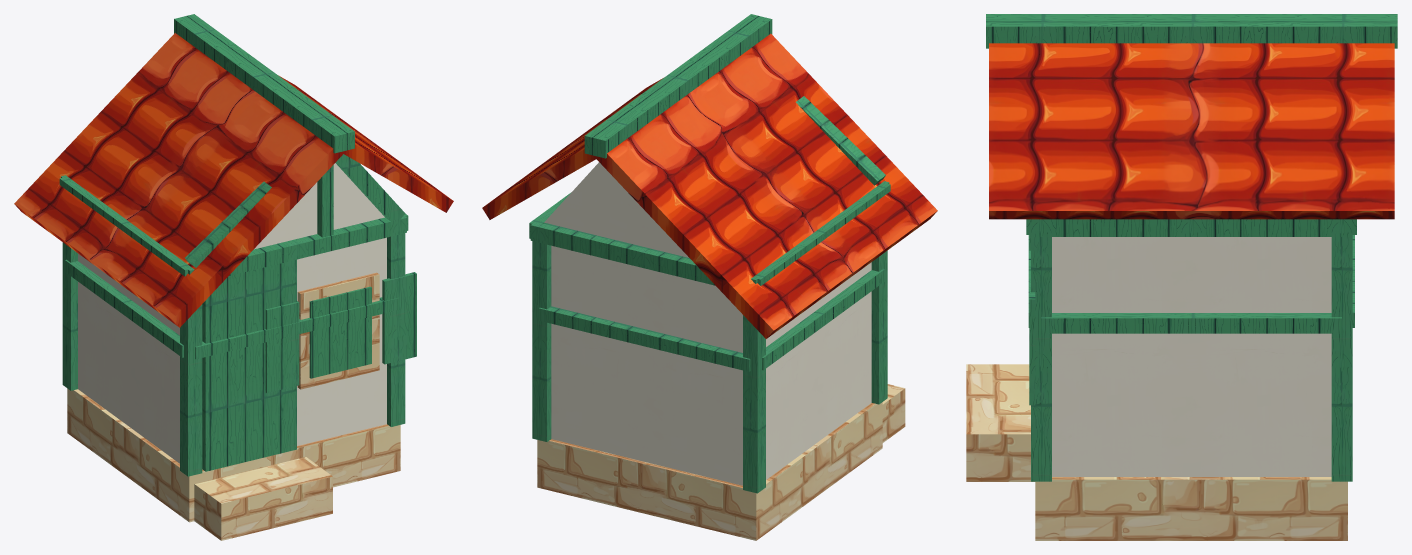
Rendered from maison_2x2.glb.
3 views of the same model, side by side, from view 1: azimuth 30°, elevation 25°; view 2: azimuth 150°, elevation 25°; view 3: azimuth 270°, elevation 25° (orthographic). The views are drawn at different scales.
Visible parts, largest first — view 1: Cube.017, Cube.001, Cube.020, Cube, Cube.021, Cube.019, Cube.023, pignon_avant, Cube.002, Cube.006, Cube.022, Cube.007 (+10 smaller); view 2: Cube.017, Cube.001, Cube, Cube.019, pignon_arriere, Cube.005, Cube.009, Cube.008, Cube.004, Cube.018, Cube.011, Cube.002 (+3 smaller); view 3: Cube.018, Cube.001, Cube, Cube.019, Cube.021, Cube.013, Cube.012, Cube.005, Cube.003, Cube.025.
Boxes of the visible parts, left/top/right/bottom form: Cube.017: left=14, top=33, right=346, bottom=327; Cube.001: left=78, top=237, right=386, bottom=463; Cube.020: left=202, top=259, right=296, bottom=471; Cube: left=67, top=388, right=400, bottom=522; Cube.021: left=194, top=457, right=332, bottom=540; Cube.019: left=174, top=14, right=354, bottom=153; Cube.023: left=309, top=286, right=371, bottom=378; pignon_avant: left=254, top=163, right=384, bottom=249; Cube.002: left=180, top=262, right=202, bottom=476; Cube.006: left=188, top=216, right=406, bottom=275; Cube.022: left=297, top=272, right=379, bottom=389; Cube.007: left=195, top=297, right=399, bottom=359; Cube.017: left=593, top=33, right=937, bottom=338; Cube.001: left=551, top=245, right=871, bottom=485; Cube: left=537, top=402, right=882, bottom=540; Cube.019: left=584, top=14, right=772, bottom=158; pignon_arriere: left=544, top=162, right=688, bottom=257; Cube.005: left=532, top=217, right=551, bottom=441; Cube.009: left=538, top=306, right=750, bottom=371; Cube.008: left=530, top=224, right=757, bottom=285; Cube.004: left=743, top=271, right=765, bottom=493; Cube.018: left=482, top=78, right=662, bottom=219; Cube.011: left=762, top=268, right=884, bottom=370; Cube.002: left=871, top=182, right=887, bottom=404; Cube.018: left=989, top=43, right=1394, bottom=219; Cube.001: left=1052, top=237, right=1331, bottom=476; Cube: left=1035, top=477, right=1347, bottom=540; Cube.019: left=986, top=14, right=1397, bottom=48; Cube.021: left=966, top=364, right=1034, bottom=481; Cube.013: left=1041, top=313, right=1341, bottom=333; Cube.012: left=1031, top=219, right=1352, bottom=236; Cube.005: left=1331, top=237, right=1352, bottom=481; Cube.003: left=1031, top=237, right=1051, bottom=481; Cube.025: left=1029, top=279, right=1035, bottom=405.
Size of the model in its own units: 2.77 by 3.48 by 2.87.
Materials: 4 (4 with a texture image).
